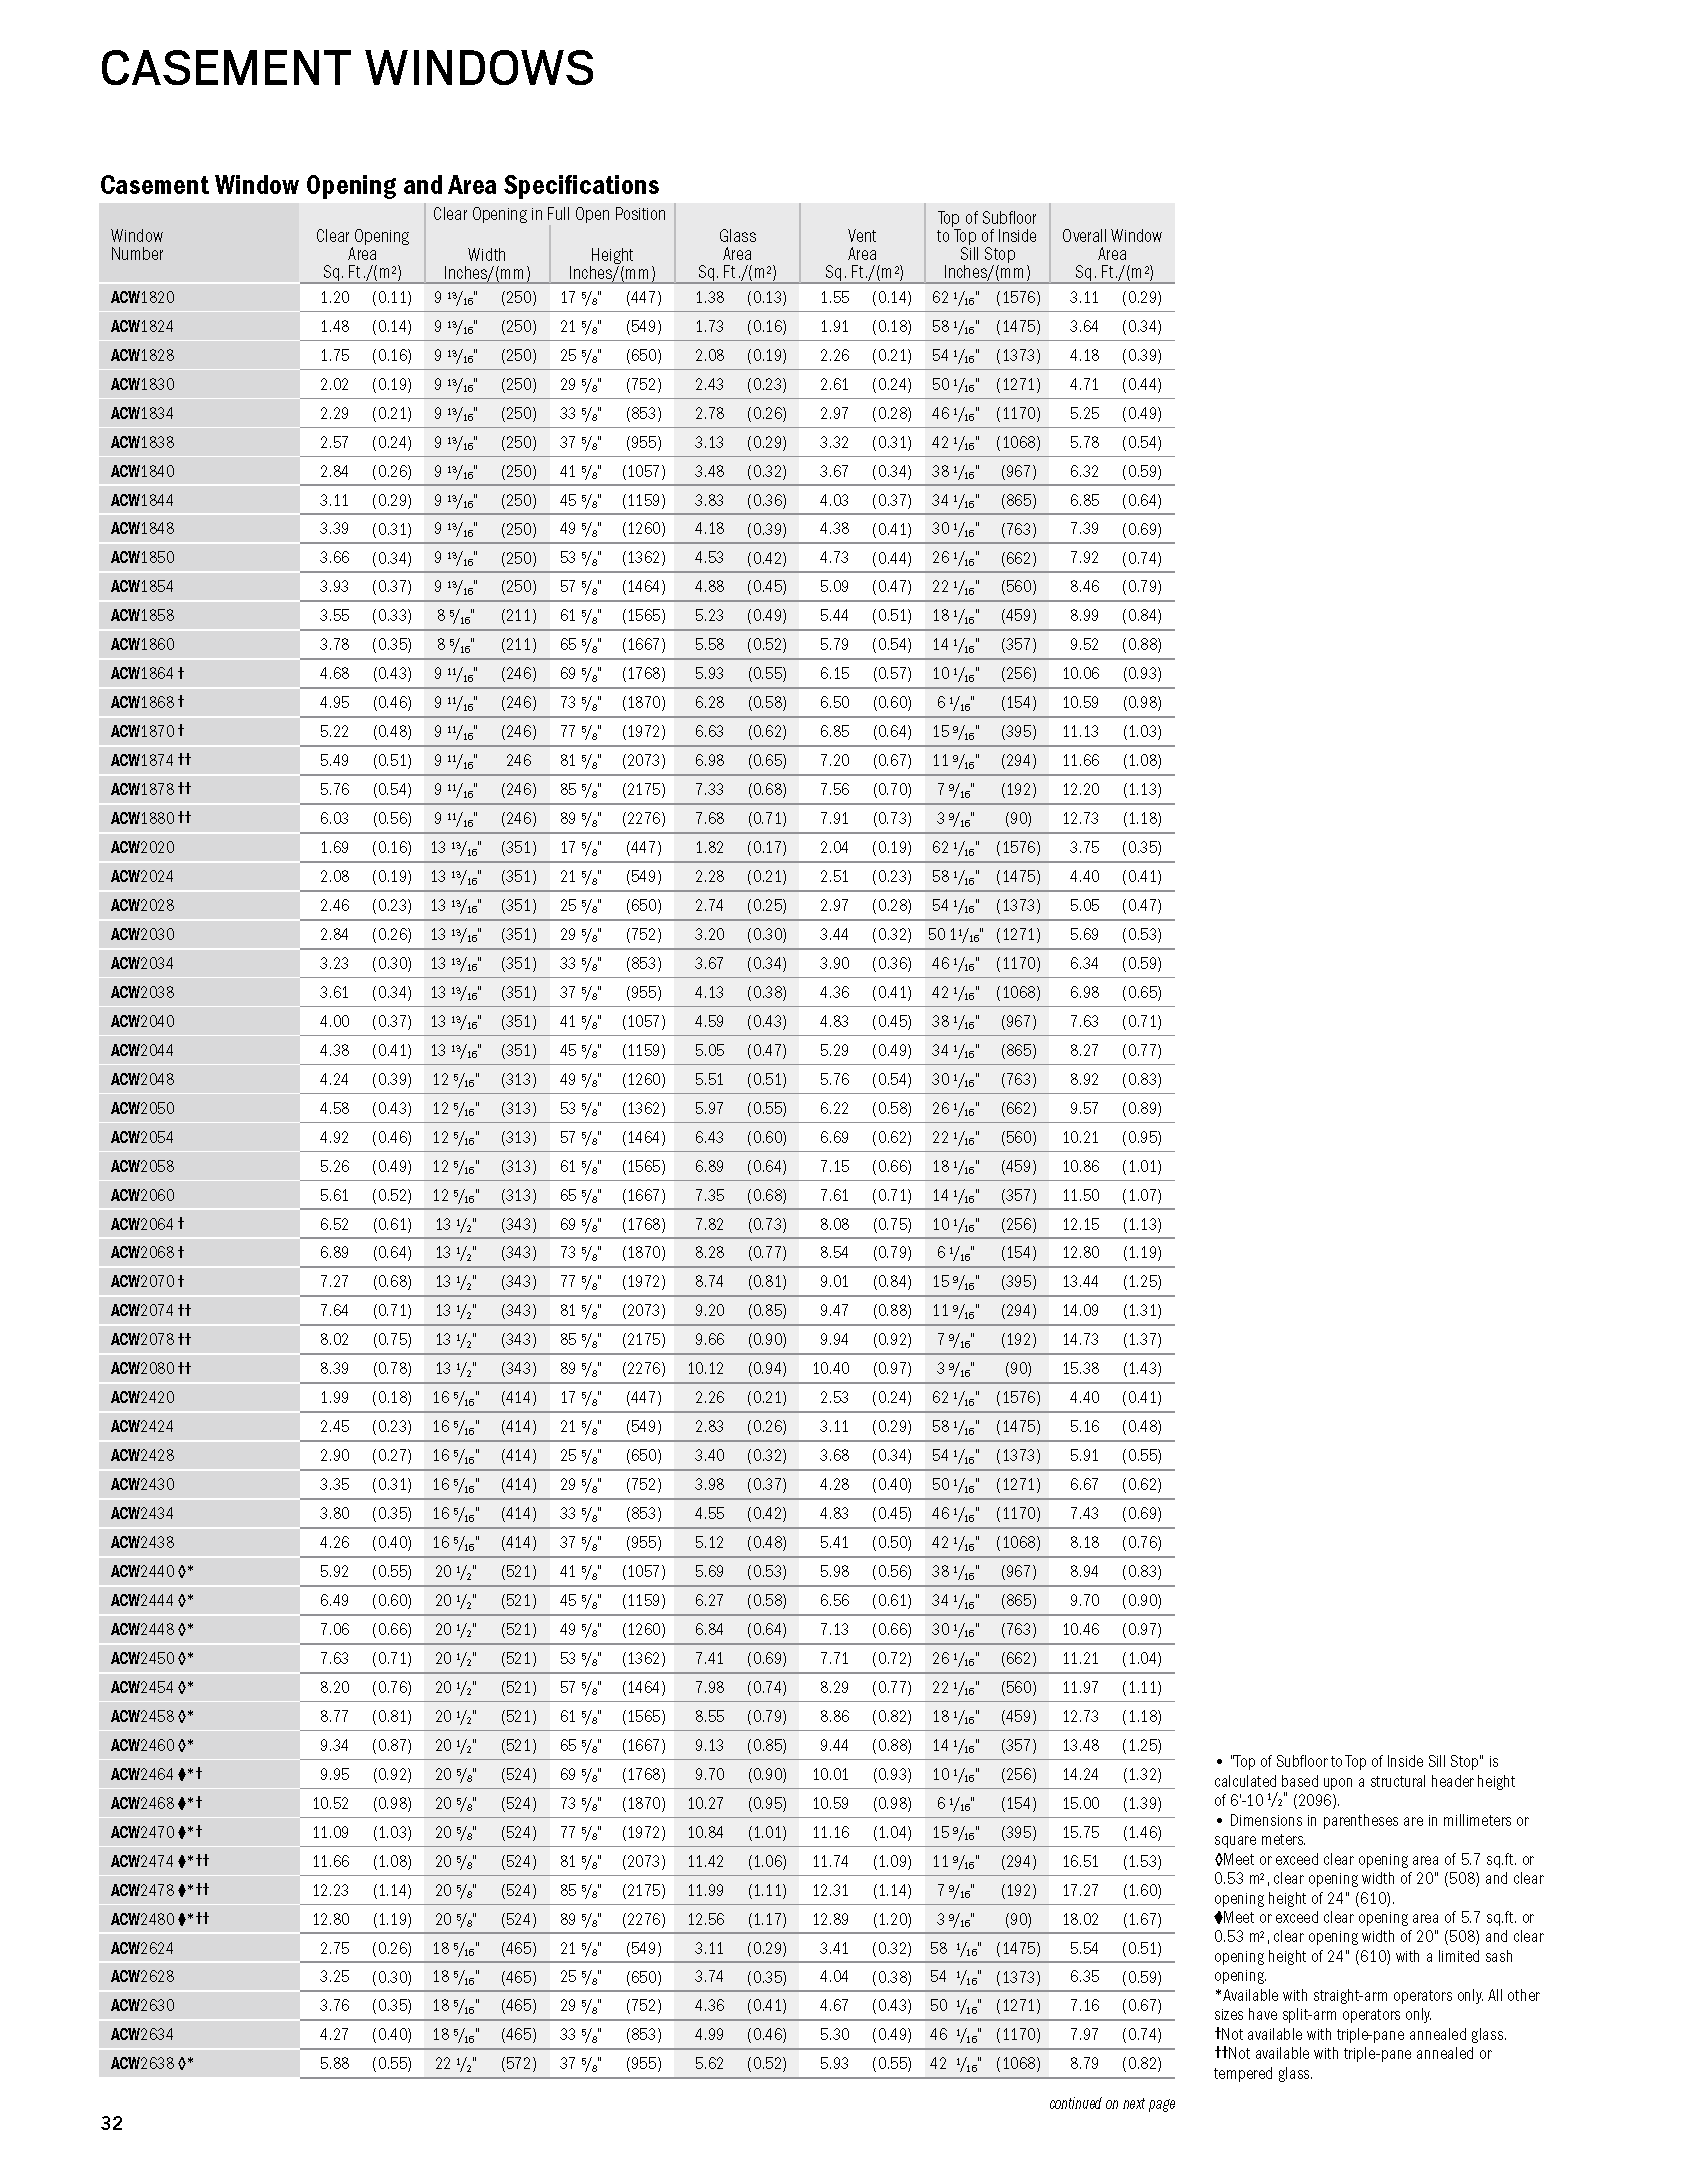tabledetected: (99, 199, 1176, 2080)
